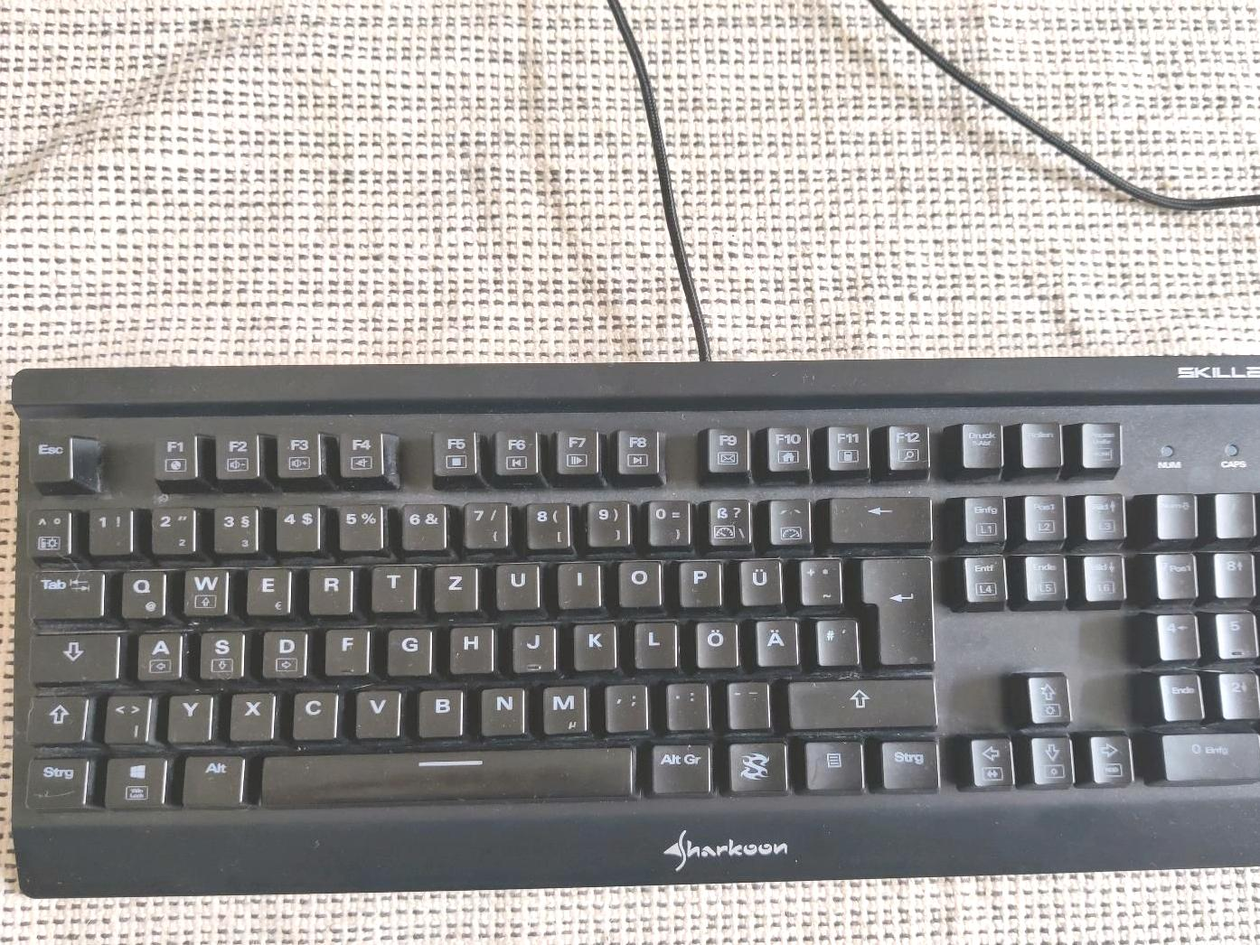0: (642, 493, 689, 544)
1: (84, 502, 131, 554)
2: (146, 502, 194, 553)
3: (209, 500, 259, 552)
4: (273, 500, 320, 550)
5: (334, 500, 383, 549)
6: (397, 498, 447, 549)
7: (460, 497, 508, 547)
8: (521, 497, 569, 548)
9: (581, 495, 629, 545)
a: (133, 626, 182, 678)
accent: (764, 492, 809, 544)
ae: (751, 613, 796, 664)
alt-left: (178, 749, 244, 804)
altgr-right: (646, 738, 710, 791)
b: (414, 683, 463, 734)
c: (288, 686, 336, 736)
caret: (24, 503, 71, 556)
comma: (600, 678, 646, 728)
d: (258, 624, 306, 676)
del: (824, 491, 929, 540)
e: (241, 562, 290, 613)
enter: (855, 550, 932, 664)
f: (321, 622, 368, 673)
g: (383, 622, 431, 673)
h: (446, 621, 494, 671)
hash: (811, 613, 856, 663)
i: (553, 557, 599, 606)
j: (508, 620, 554, 671)
k: (569, 617, 616, 669)
keyboard: (1, 345, 1260, 841)
l: (629, 615, 675, 666)
less: (100, 689, 149, 741)
m: (537, 679, 585, 732)
minus: (722, 676, 767, 725)
n: (476, 681, 525, 733)
o: (613, 555, 661, 604)
oe: (691, 615, 737, 665)
p: (673, 554, 720, 604)
plus: (795, 553, 841, 603)
point: (662, 677, 707, 726)
q: (117, 564, 165, 617)
r: (305, 561, 353, 613)
s: (195, 626, 244, 678)
shift-left: (22, 690, 86, 741)
shift-lock: (24, 628, 120, 680)
shift-right: (783, 673, 934, 725)
space: (254, 743, 634, 801)
ss: (702, 493, 749, 545)
strg-left: (21, 752, 89, 804)
strg-right: (875, 734, 937, 787)
t: (367, 558, 415, 610)
tab: (25, 565, 103, 616)
u: (492, 557, 540, 609)
ue: (735, 553, 781, 603)
v: (351, 683, 400, 735)
w: (179, 562, 228, 614)
x: (226, 687, 274, 739)
y: (165, 689, 212, 740)
z: (429, 559, 476, 610)
